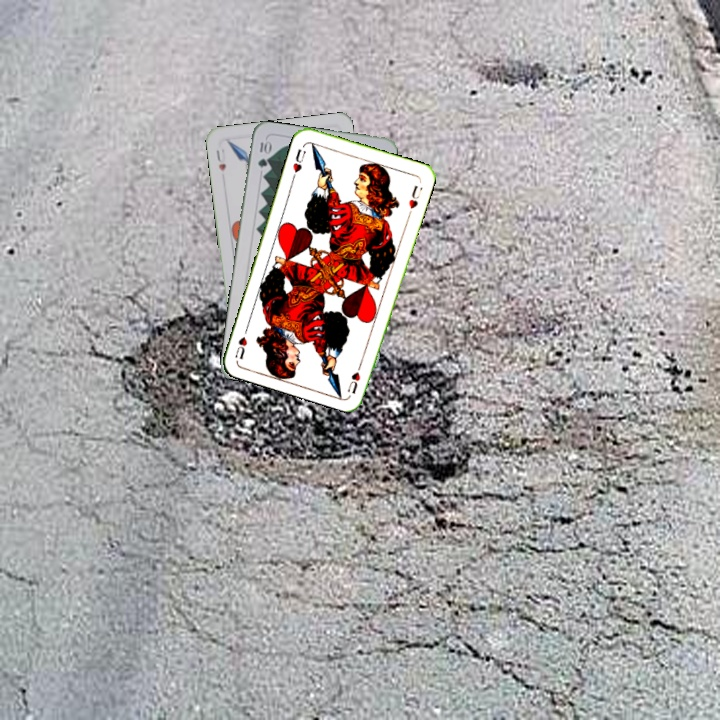G10: (254, 137, 272, 170)
HU: (343, 357, 365, 396), (288, 145, 308, 181), (212, 145, 228, 174)
